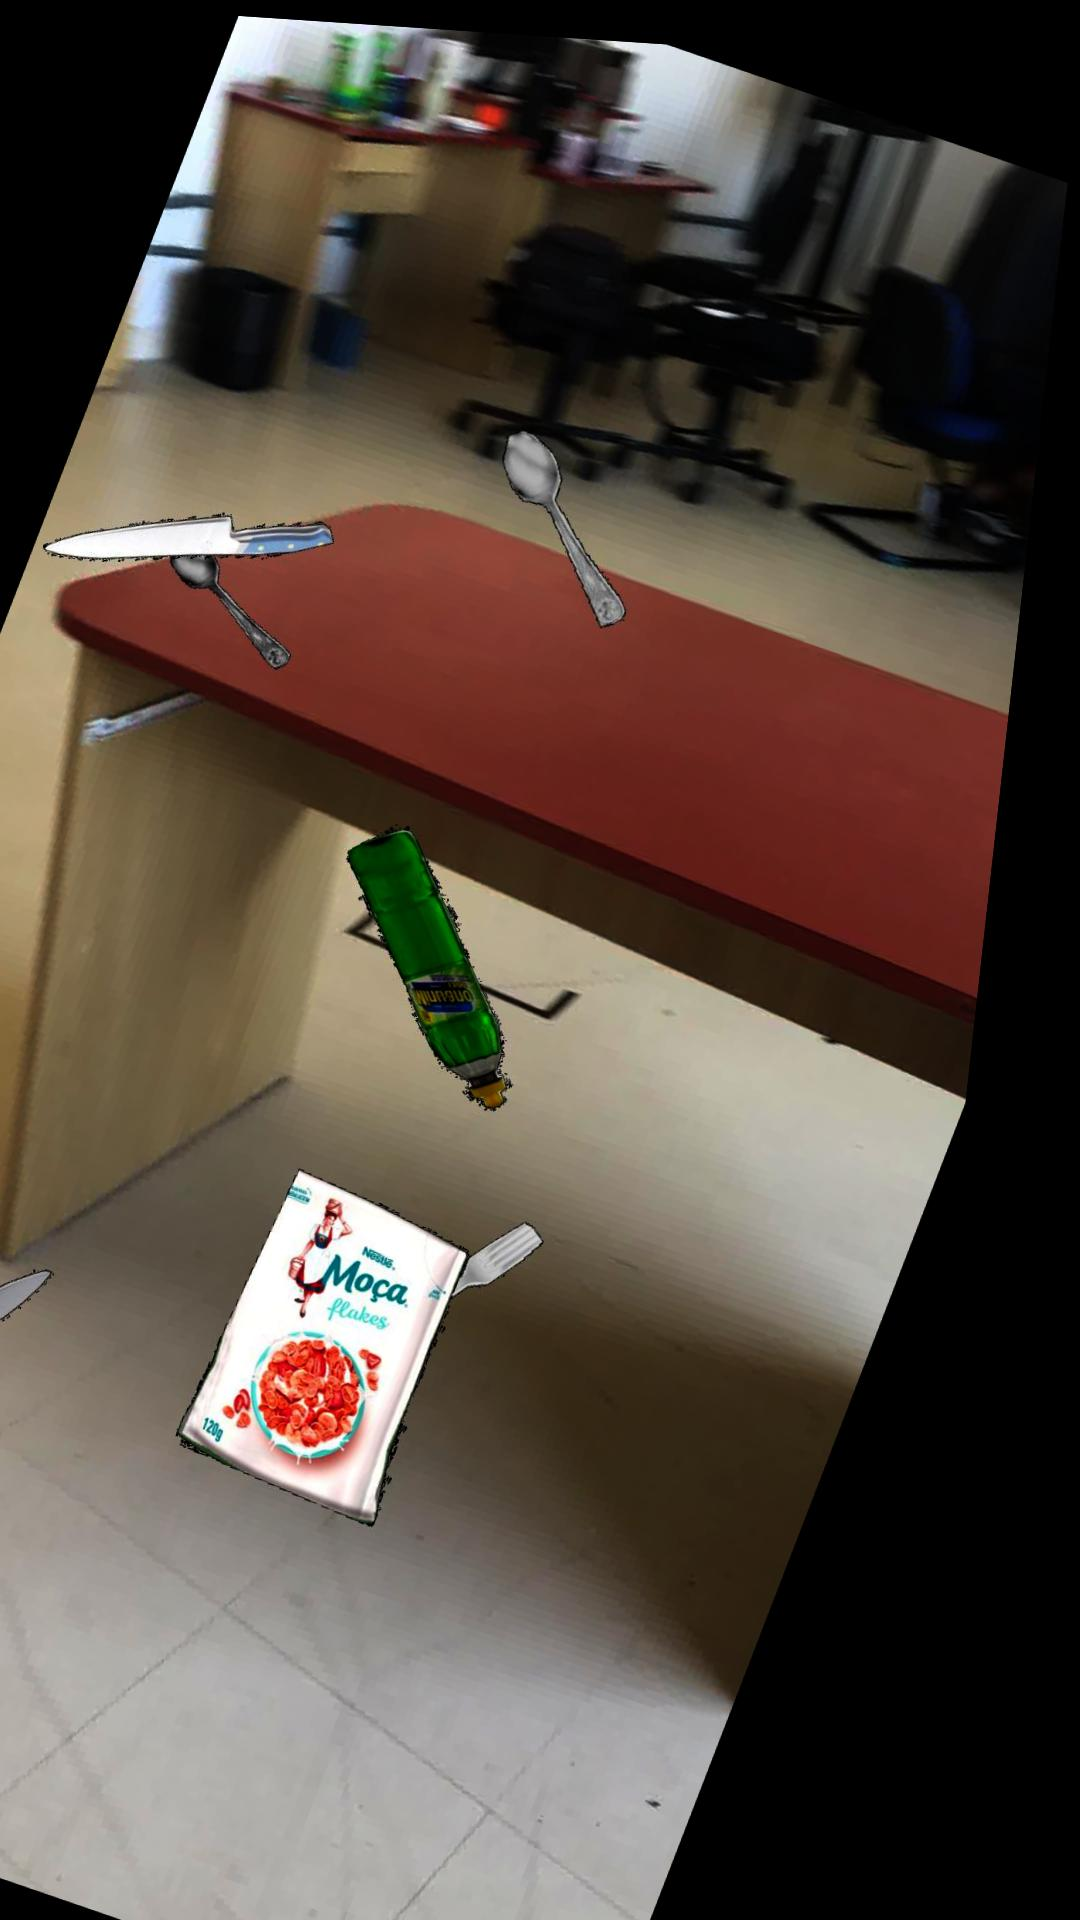cleaner: (365, 818, 533, 1101)
corn flakes: (208, 1160, 497, 1518)
fork: (480, 1211, 571, 1288)
knife: (54, 508, 345, 556), (0, 1265, 80, 1337)
spoon: (512, 421, 638, 617), (182, 550, 305, 663)
